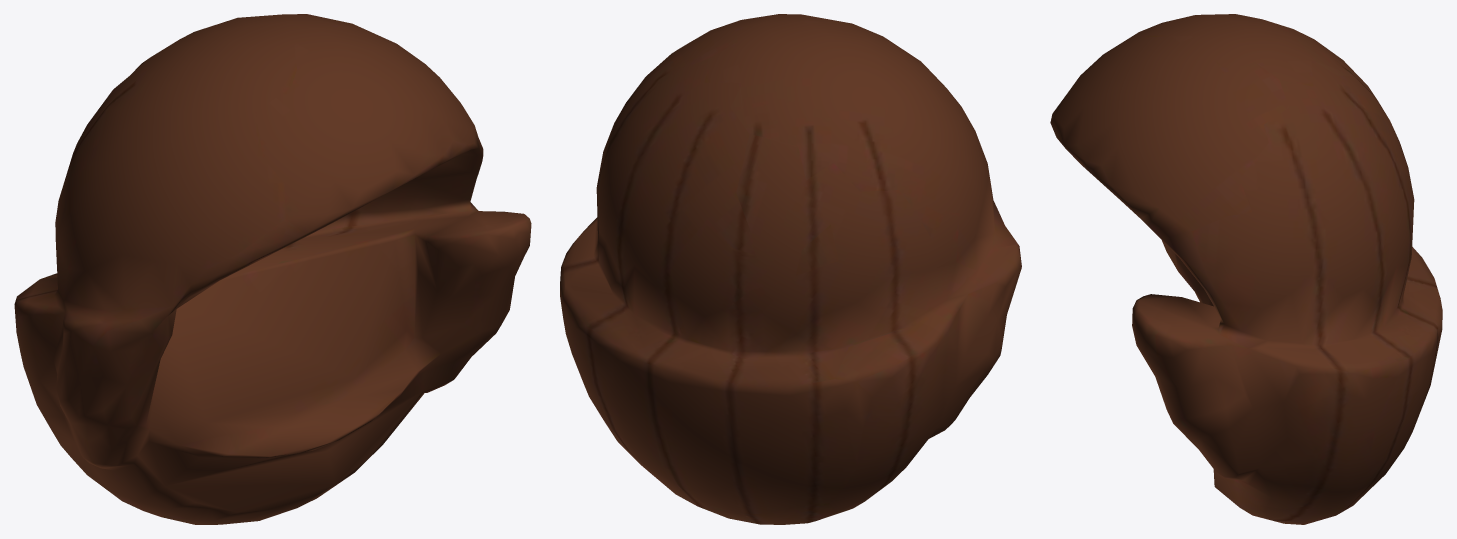
The model's file is avatar-hair-long.capped.glb.
3 renders of one model, left to right at view 1: azimuth 30°, elevation 25°; view 2: azimuth 150°, elevation 25°; view 3: azimuth 270°, elevation 25°, orthographic. The views are drawn at different scales.
Visible parts, largest first — view 1: hair; view 2: hair; view 3: hair.
Boxes of the visible parts, <box> form: hair: <box>14,14,531,524</box>; hair: <box>560,14,1021,524</box>; hair: <box>1050,14,1442,524</box>.
Bounding box in the file's own units: 0.4839 × 0.5176 × 0.3904.
Materials: 1 (1 with a texture image).
